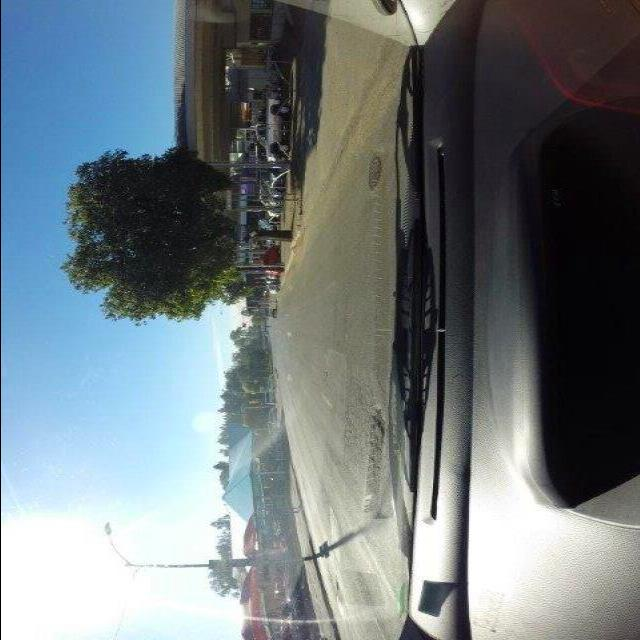jalan retak: (310, 345, 348, 417)
lubang: (358, 398, 392, 447), (322, 566, 344, 600)
